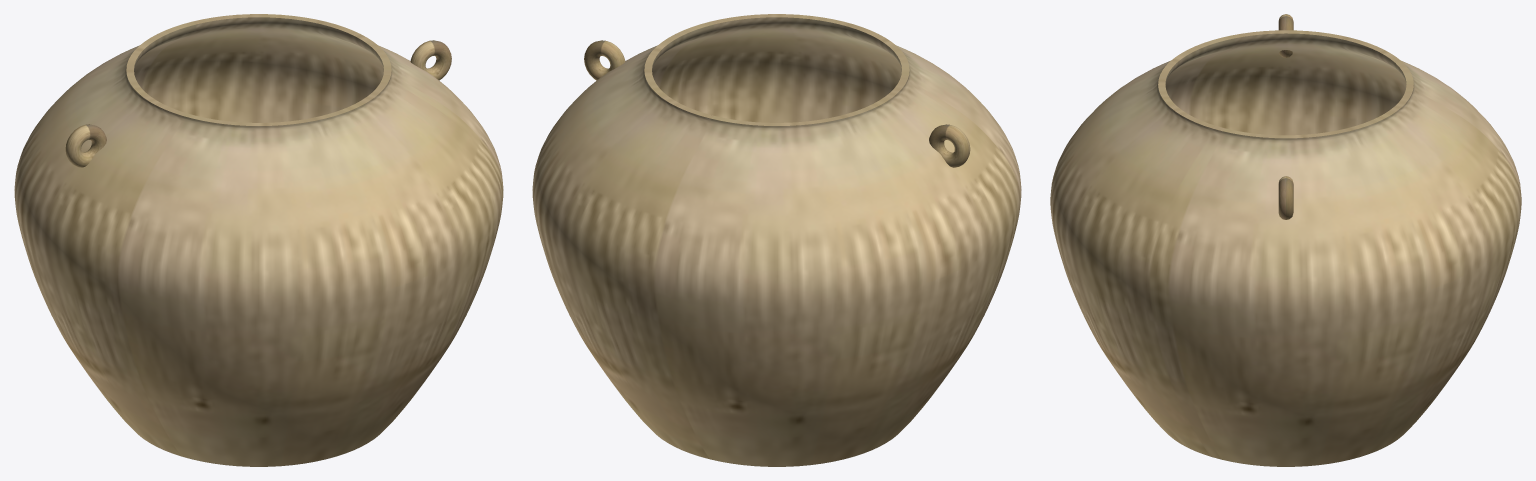
The model's file is 汉代陶瓷罐3.FBX.
3 views of the same model, side by side, from view 1: azimuth 30°, elevation 25°; view 2: azimuth 150°, elevation 25°; view 3: azimuth 270°, elevation 25° (orthographic). The views are drawn at different scales.
Parts seen in each view (by area): view 1: Cylinder001, Torus002, Torus001; view 2: Cylinder001, Torus002, Torus001; view 3: Cylinder001, Torus001.
Boxes of the visible parts, left/top/right/bottom form: Cylinder001: left=14, top=14, right=503, bottom=466; Torus002: left=65, top=124, right=106, bottom=167; Torus001: left=410, top=40, right=451, bottom=80; Cylinder001: left=532, top=14, right=1021, bottom=466; Torus002: left=929, top=124, right=970, bottom=167; Torus001: left=584, top=40, right=625, bottom=80; Cylinder001: left=1050, top=30, right=1521, bottom=466; Torus001: left=1278, top=176, right=1293, bottom=219.
Size of the model in its own units: 32.01 by 24.58 by 32.01.
